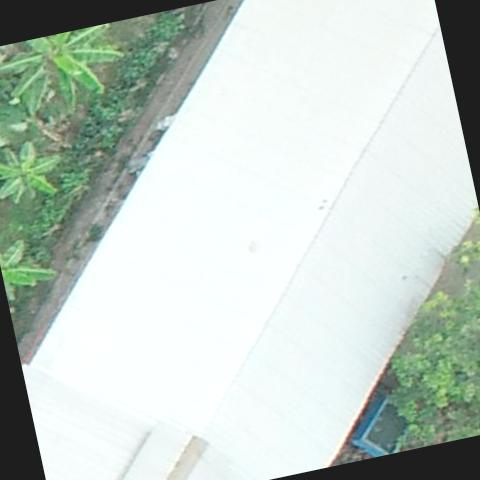Banana-plant: (0, 21, 134, 127), (0, 134, 69, 214), (0, 227, 61, 303)
